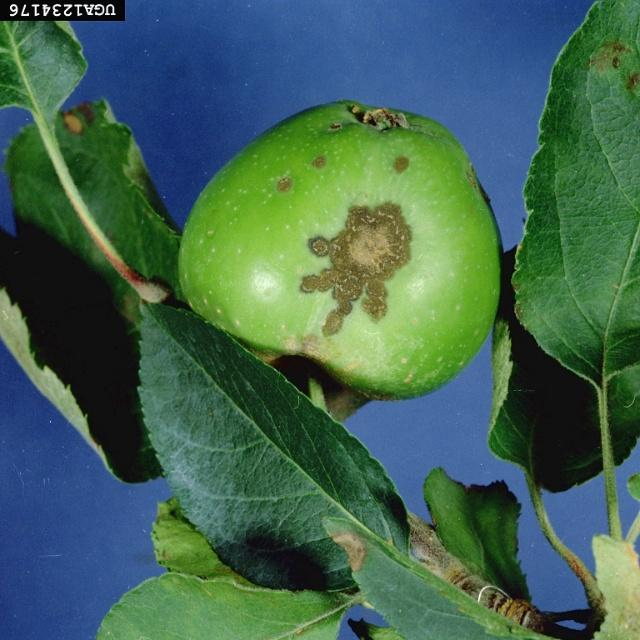shot_hole: (123, 288, 423, 607), (0, 23, 204, 332), (504, 1, 640, 399)
